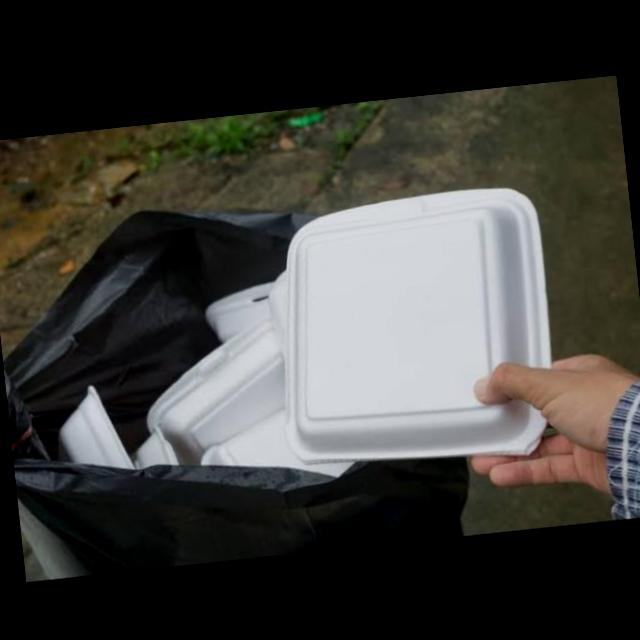xop: (278, 190, 552, 464), (147, 317, 284, 466), (200, 410, 353, 478), (60, 385, 134, 470), (205, 282, 274, 343)
